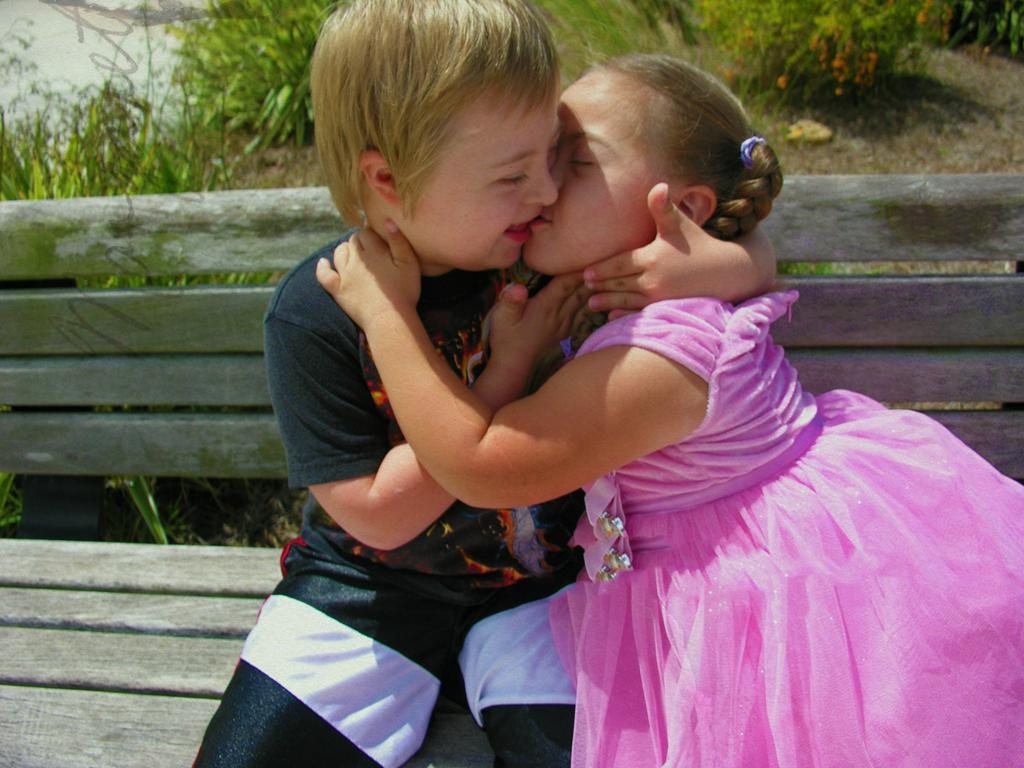face: (414, 66, 560, 272), (524, 64, 656, 270)
